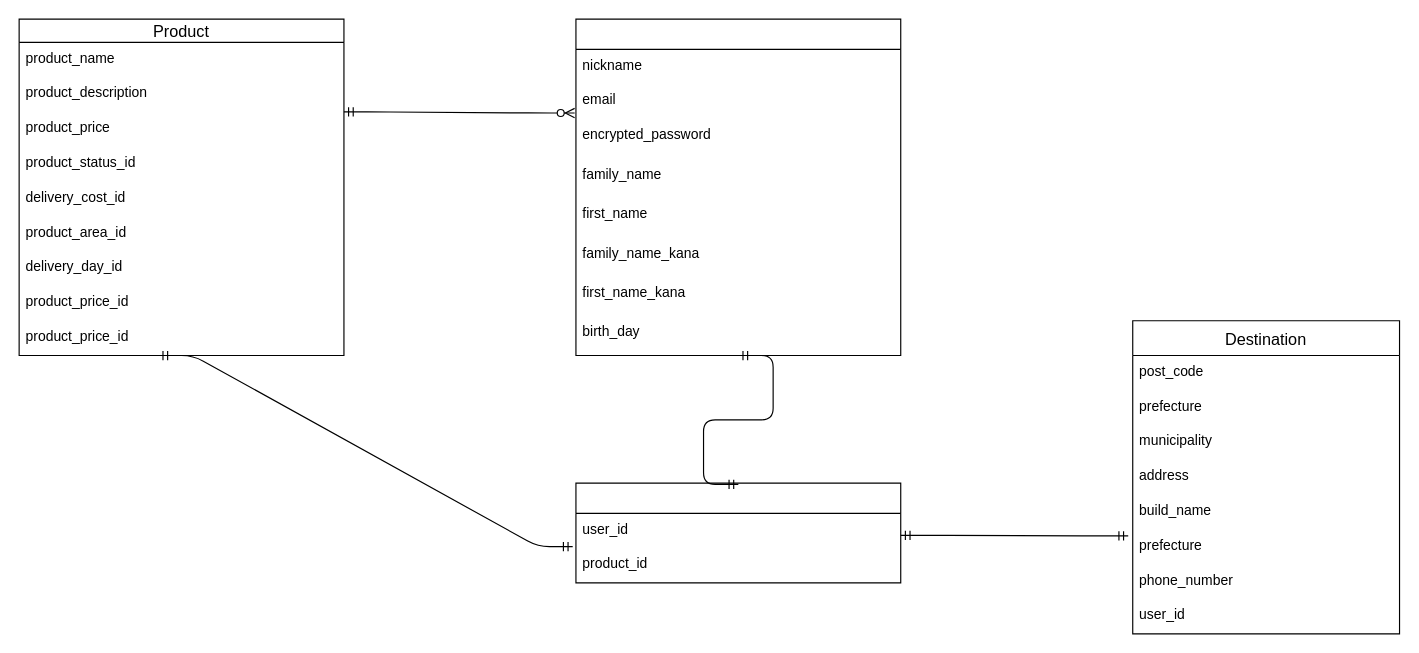
Some shapes in this 1419 by 653 pixel diagram are drawn without their labels. The box of each missing label's shape, as (x1, y1, x2, y2) in pixels:
purchase_management: (575, 482, 901, 583)
User: (575, 18, 901, 356)
